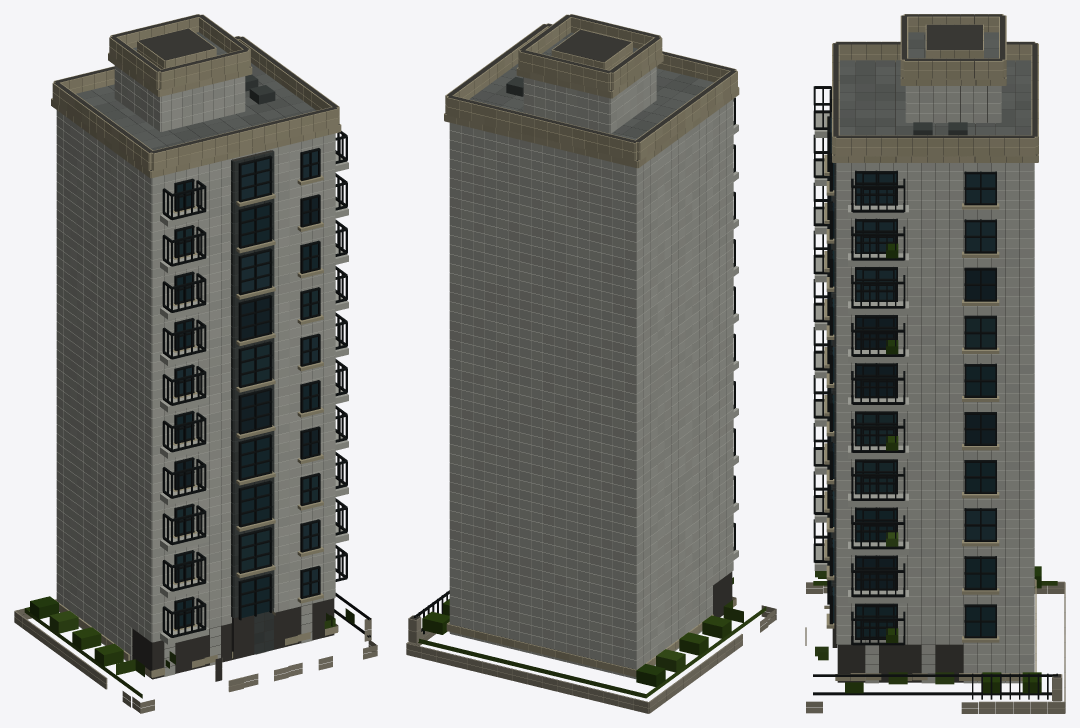
Rendered from SM_StreetFrontage_076.fbx.
The picture shows the model from 3 angles, left to right: view 1: azimuth 30°, elevation 25°; view 2: azimuth 150°, elevation 25°; view 3: azimuth 270°, elevation 25°; orthographic projection. The views are drawn at different scales.
Parts seen in each view (by area): view 1: SM_StreetFrontage_076; view 2: SM_StreetFrontage_076; view 3: SM_StreetFrontage_076.
Boxes of the visible parts, x1=… form: SM_StreetFrontage_076: x1=14, y1=14, x2=377, y2=713; SM_StreetFrontage_076: x1=406, y1=14, x2=776, y2=713; SM_StreetFrontage_076: x1=805, y1=14, x2=1065, y2=713.
Bounding box in the file's own units: 14 × 12.78 × 33.13.
